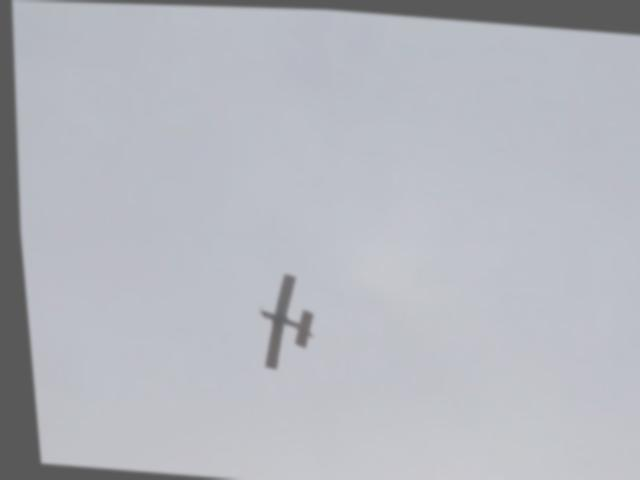plane: (247, 272, 314, 372)
